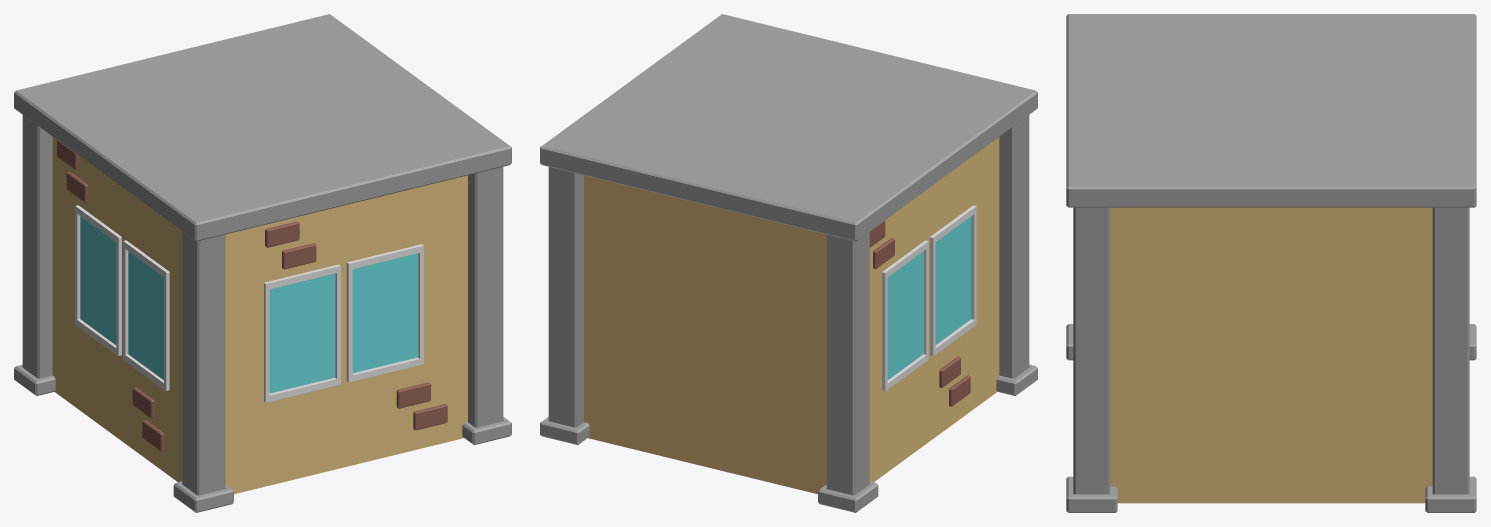
The model's file is TowerBlock.fbx.
The picture shows the model from 3 angles, left to right: view 1: azimuth 30°, elevation 25°; view 2: azimuth 150°, elevation 25°; view 3: azimuth 270°, elevation 25°; orthographic projection. The views are drawn at different scales.
Parts seen in each view (by area): view 1: Cube.002; view 2: Cube.002; view 3: Cube.002.
Boxes of the visible parts, bbox=[...] form: Cube.002: bbox=[14, 14, 511, 512]; Cube.002: bbox=[540, 14, 1037, 512]; Cube.002: bbox=[1066, 14, 1476, 512].
Bounding box in the file's own units: 229 × 200 × 227.
